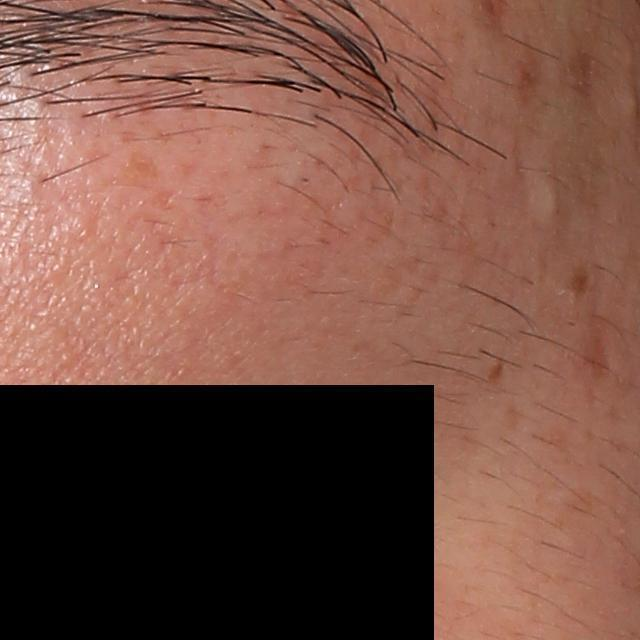comedo: (526, 161, 577, 236)
melasma: (564, 263, 598, 302), (486, 360, 505, 391)
